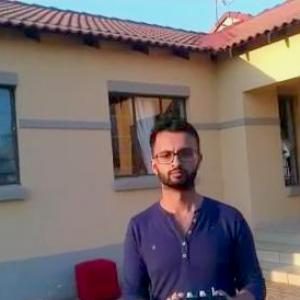follow: (117, 109, 273, 299)
null: (1, 278, 61, 299)
